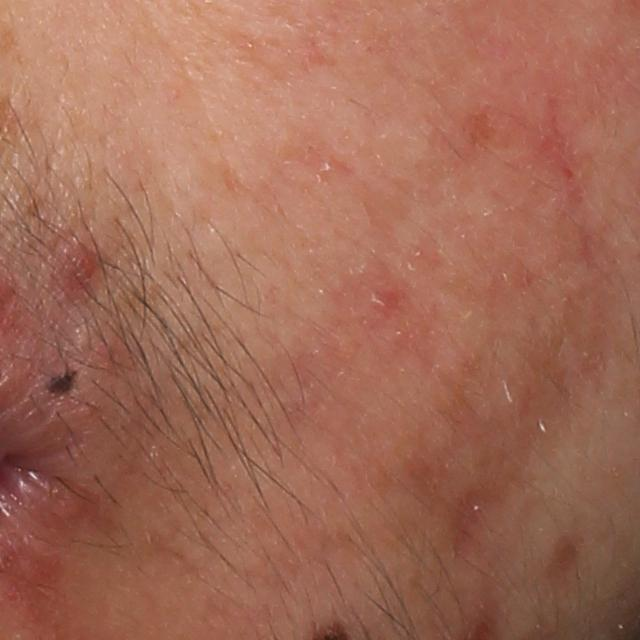nevus: (43, 366, 81, 399)
